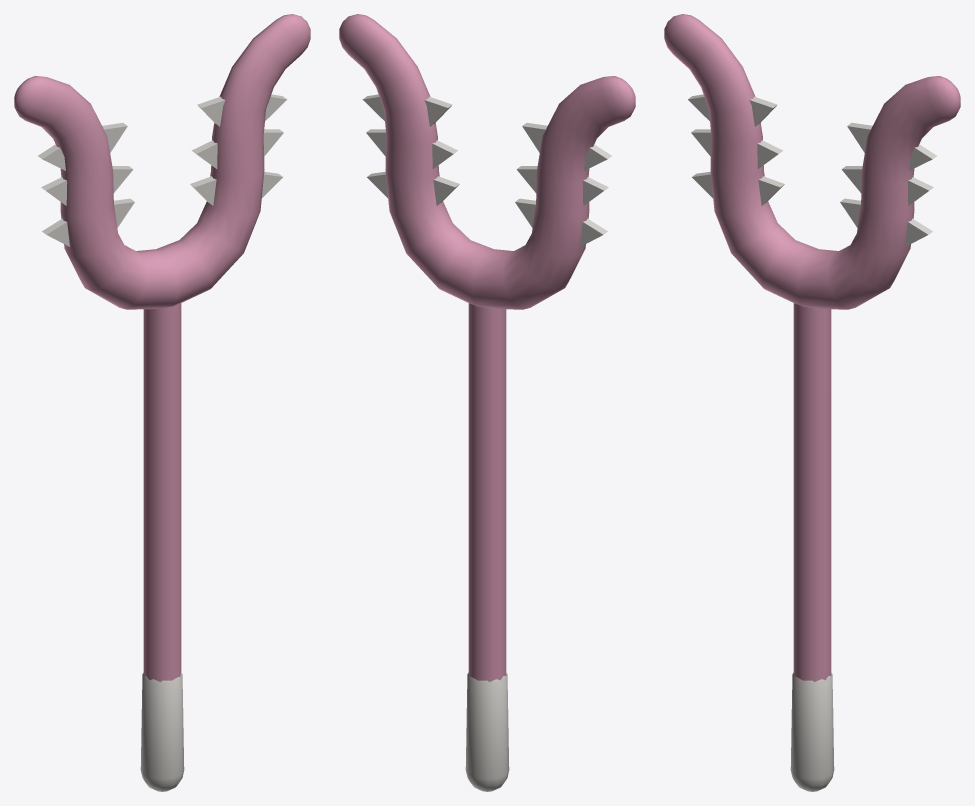
File: item_weapon02.glb
3 views of the same model, side by side, from view 1: azimuth 30°, elevation 25°; view 2: azimuth 150°, elevation 25°; view 3: azimuth 330°, elevation 25° (orthographic).
Visible parts, largest first — view 1: item_weapon02; view 2: item_weapon02; view 3: item_weapon02.
Part boxes in pixels (x1,y1,x2,y2): item_weapon02: (14, 14, 310, 791); item_weapon02: (339, 14, 635, 791); item_weapon02: (664, 14, 960, 791).
Size of the model in its own units: 0.2896 by 0.6988 by 0.0507.
